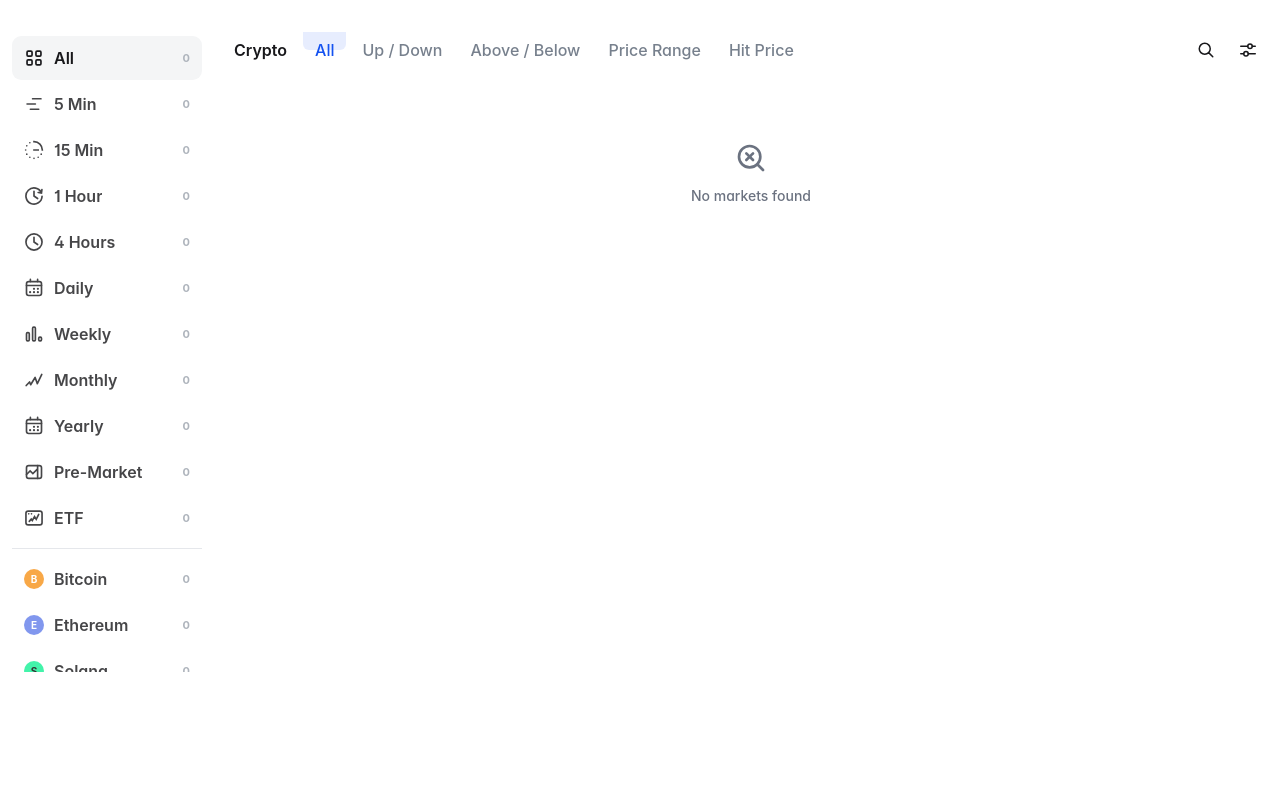
Test case: CryptoPageView › updates the active tab, expands search, and shows filter chips
What coordinates should you click on to do the following:
click the tab "Up / Down"
I would click on:
 (402, 50)
Its box is [350,36,454,64].
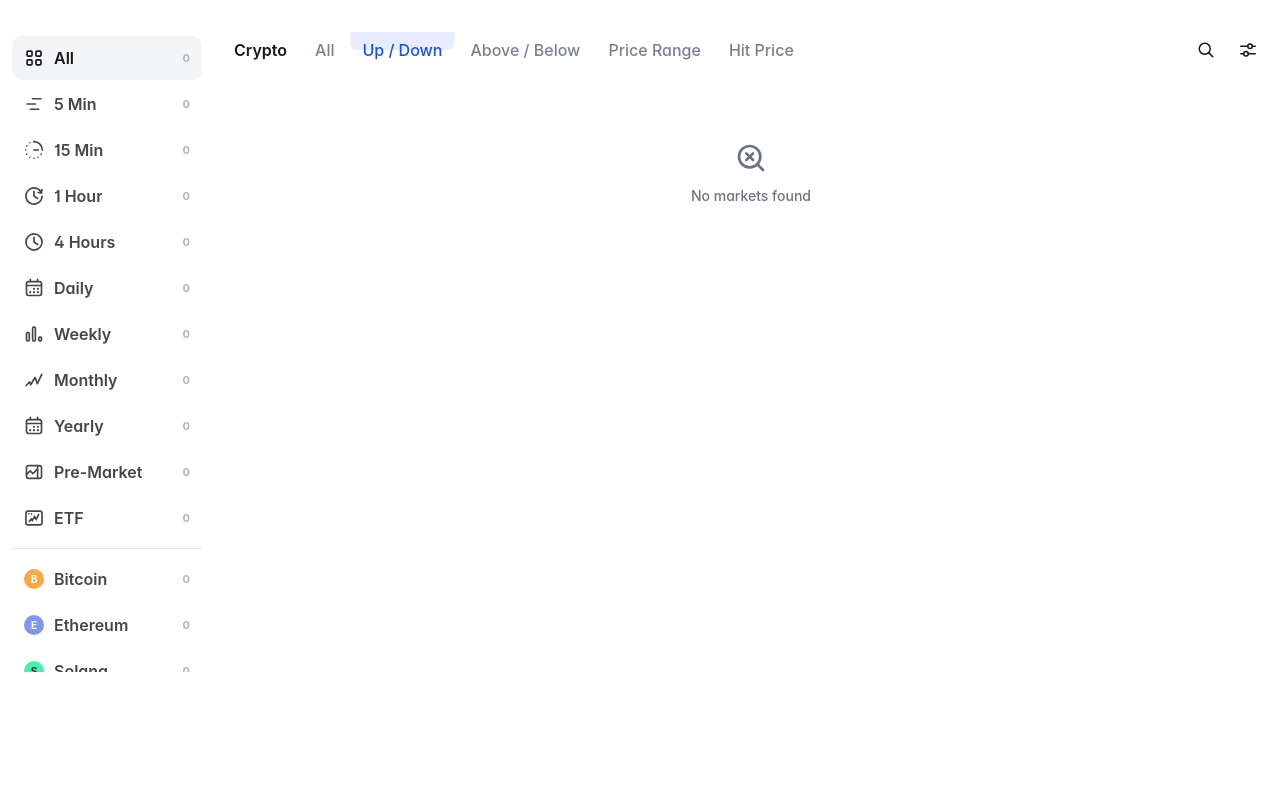
Expected: the tab "Up / Down" is selected, [350,36,454,64]
What coordinates should you click on to do the following:
click the button named "Open search"
I would click on:
 (1206, 50)
Its box is [1186,30,1226,70].
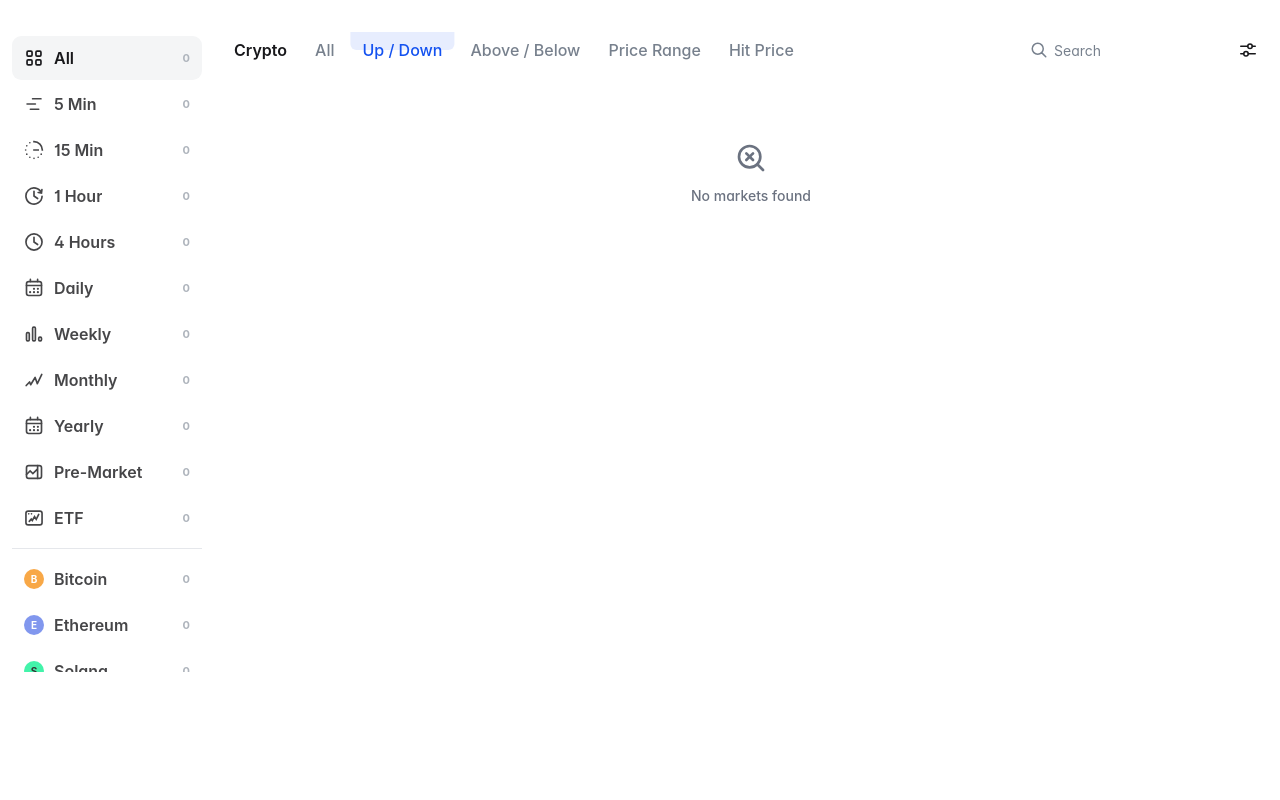
What coordinates should you click on to do the following:
click the button named "Toggle filters"
I would click on:
 (1248, 50)
Its box is [1228,30,1268,70].
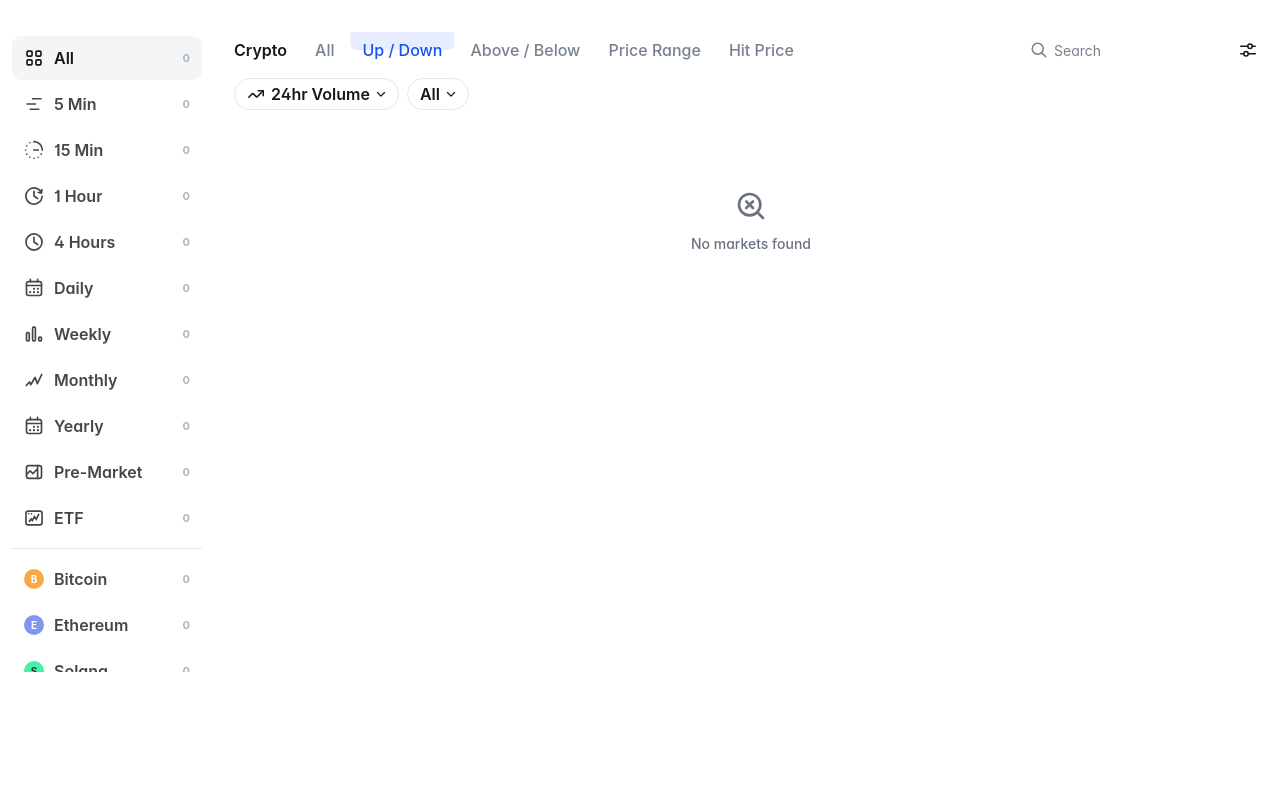
Expected: the button "24hr Volume" is shown, [234,78,399,110]
